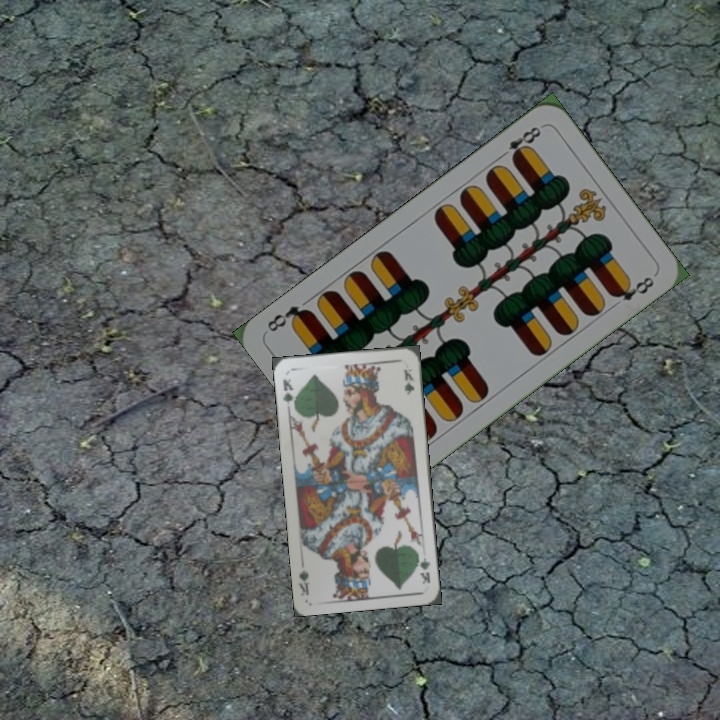E8: (495, 122, 544, 164)
GK: (413, 549, 433, 586), (279, 375, 298, 412)
